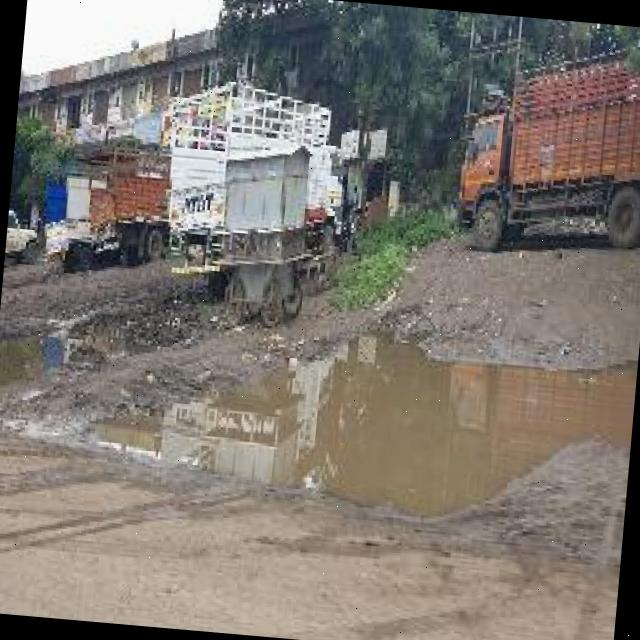waterlogging: (56, 230, 640, 542)
